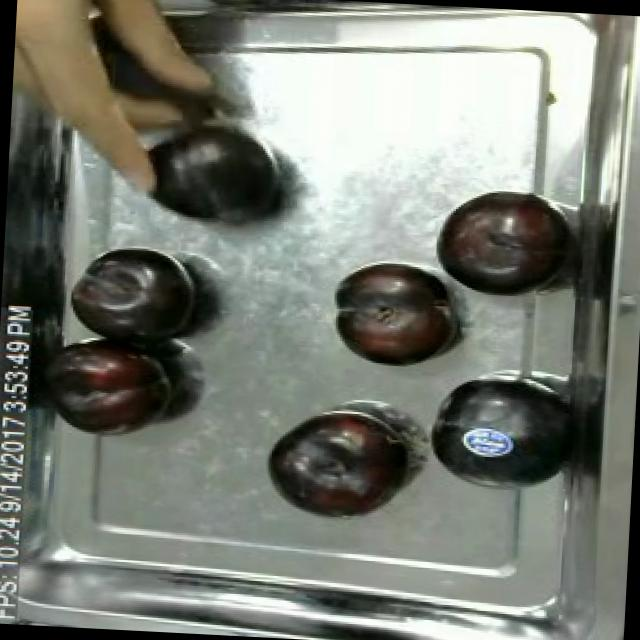Fruit: (420, 366, 580, 500), (134, 117, 296, 240), (257, 403, 415, 529), (55, 232, 210, 356), (38, 329, 186, 448), (428, 184, 570, 303), (325, 258, 465, 376)
